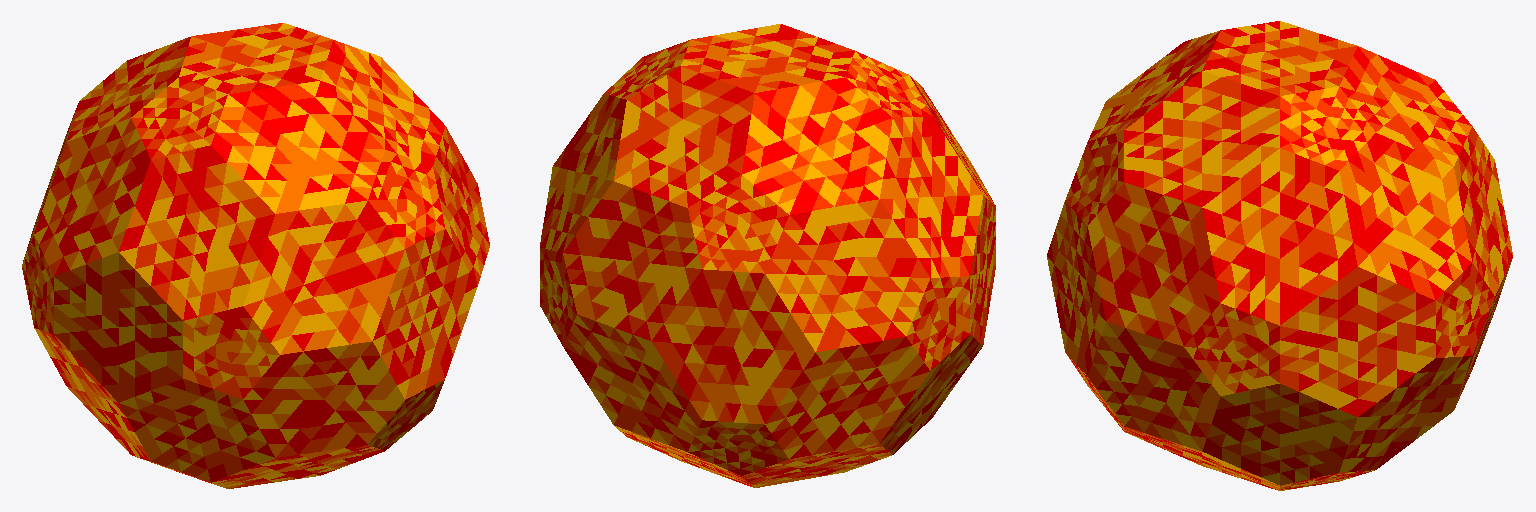
Rendered from testfc.obj.
3 renders of one model, left to right at view 1: azimuth 30°, elevation 25°; view 2: azimuth 150°, elevation 25°; view 3: azimuth 270°, elevation 25°, orthographic.
Visible parts, largest first — view 1: 0; view 2: 0; view 3: 0.
Boxes of the visible parts, x1,y1,x2,y2 form: 0: [22, 23, 489, 488]; 0: [540, 24, 995, 487]; 0: [1047, 21, 1512, 490].
Bounding box in the file's own units: 453 × 424 × 453.